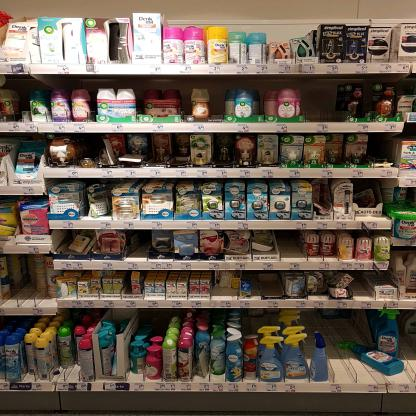Void: (304, 80, 341, 122), (12, 256, 36, 308), (333, 318, 349, 386), (369, 133, 393, 164), (250, 272, 276, 300), (278, 234, 304, 257), (79, 137, 100, 163), (140, 312, 161, 333), (128, 234, 142, 260), (355, 276, 370, 298)
